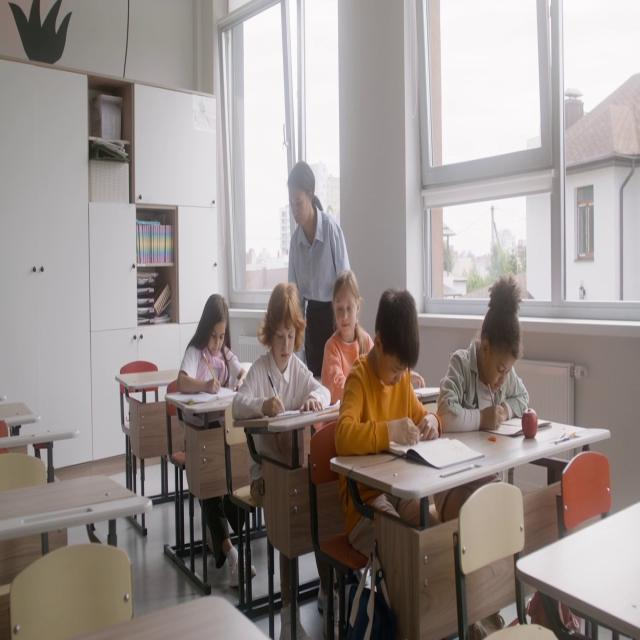reading: (318, 268, 381, 418)
writing: (336, 285, 460, 640), (180, 295, 256, 587), (234, 282, 328, 446), (438, 276, 530, 435)
